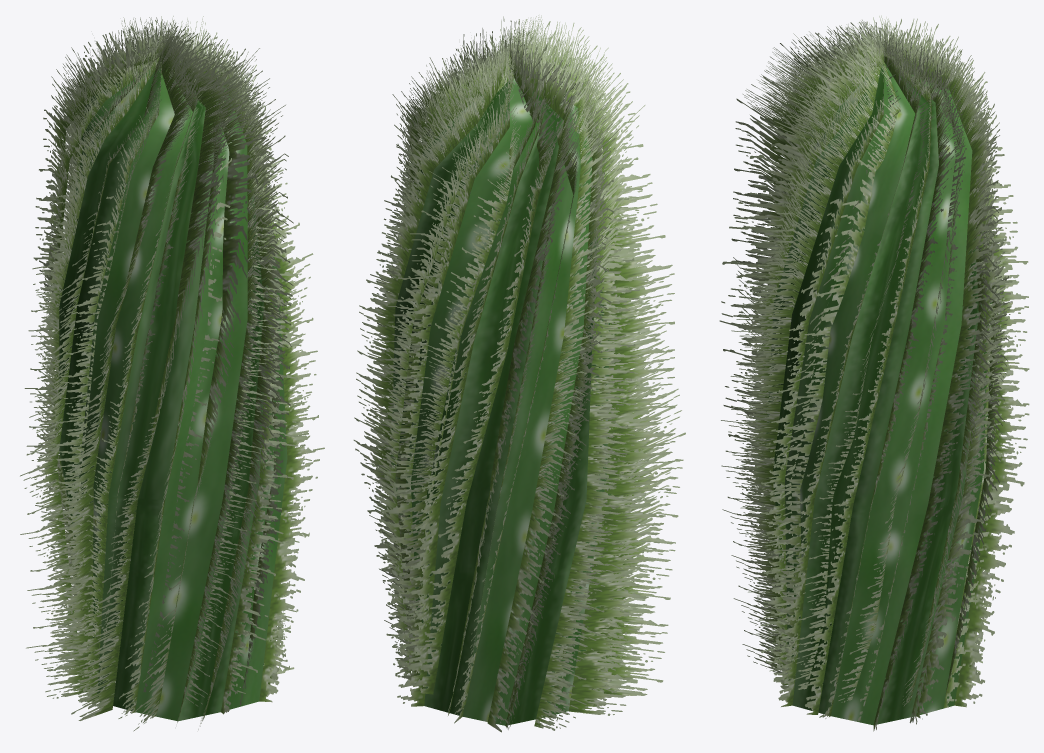
Rendered from Model_Cactus_Small_01.fbx.
The picture shows the model from 3 angles, left to right: view 1: azimuth 30°, elevation 25°; view 2: azimuth 150°, elevation 25°; view 3: azimuth 270°, elevation 25°; orthographic projection.
Parts seen in each view (by area): view 1: Cactus_Small_01; view 2: Cactus_Small_01; view 3: Cactus_Small_01.
Part boxes in pixels (x1,y1,x2,y2): Cactus_Small_01: (20,16,324,731); Cactus_Small_01: (353,15,685,732); Cactus_Small_01: (719,15,1029,731).
Size of the model in its own units: 42.36 by 98.89 by 42.42.
